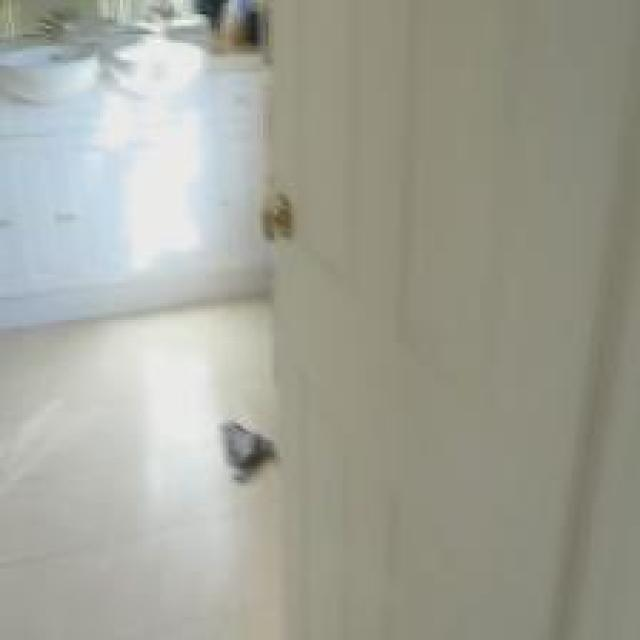other: (72, 25, 222, 258)
